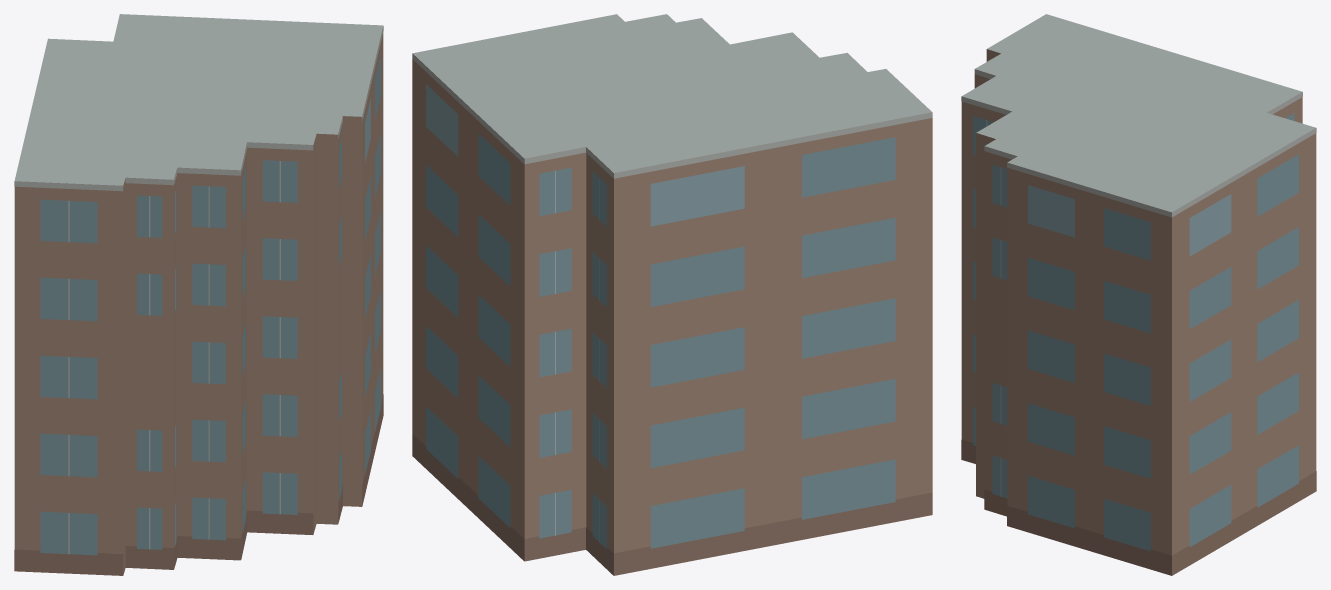
File: survey-upis-32839996.glb
3 renders of one model, left to right at view 1: azimuth 30°, elevation 25°; view 2: azimuth 150°, elevation 25°; view 3: azimuth 270°, elevation 25°, orthographic. The views are drawn at different scales.
Visible parts, largest first — view 1: survey-upis-32839996.tmp; view 2: survey-upis-32839996.tmp; view 3: survey-upis-32839996.tmp.
Boxes of the visible parts, x1,y1,x2,y2 form: survey-upis-32839996.tmp: (14,14,383,575); survey-upis-32839996.tmp: (412,14,932,575); survey-upis-32839996.tmp: (961,14,1316,575).
Size of the model in its own units: 20.5 by 17.5 by 15.5.
